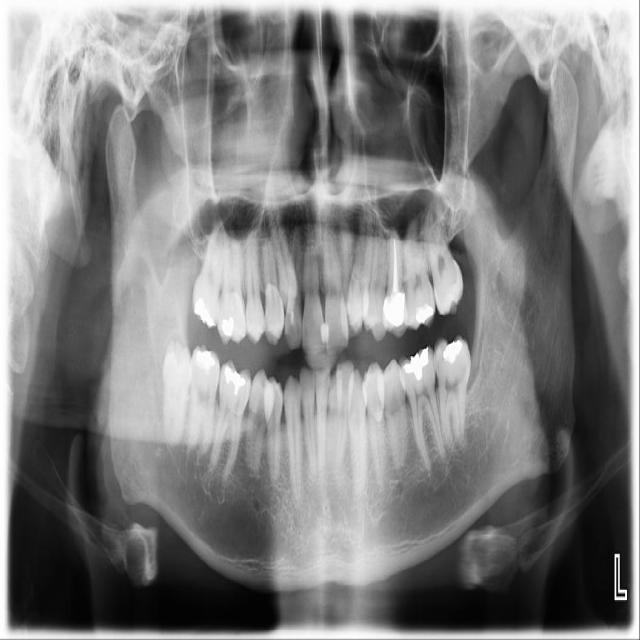Crown: (382, 293, 408, 338)
Filling: (403, 346, 431, 380), (224, 365, 246, 396), (193, 299, 215, 328), (193, 348, 217, 370), (414, 302, 435, 326), (443, 341, 464, 364), (221, 317, 233, 337)
Root Canal Treatment: (392, 238, 399, 291)
impacted tooth: (162, 341, 189, 443)
